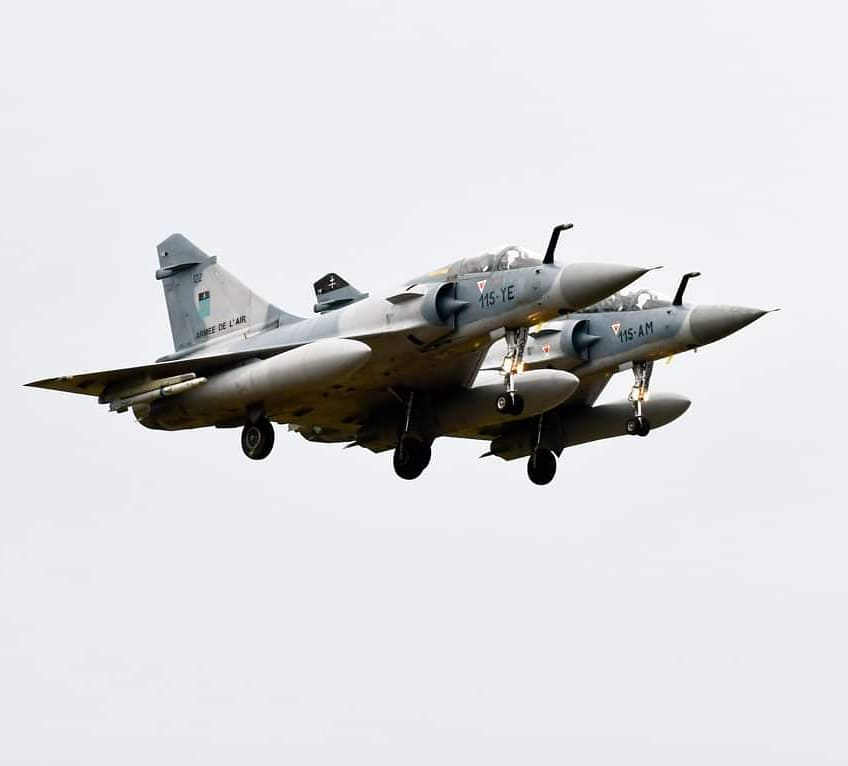Mirage2000: (21, 222, 664, 480), (288, 271, 782, 486)
